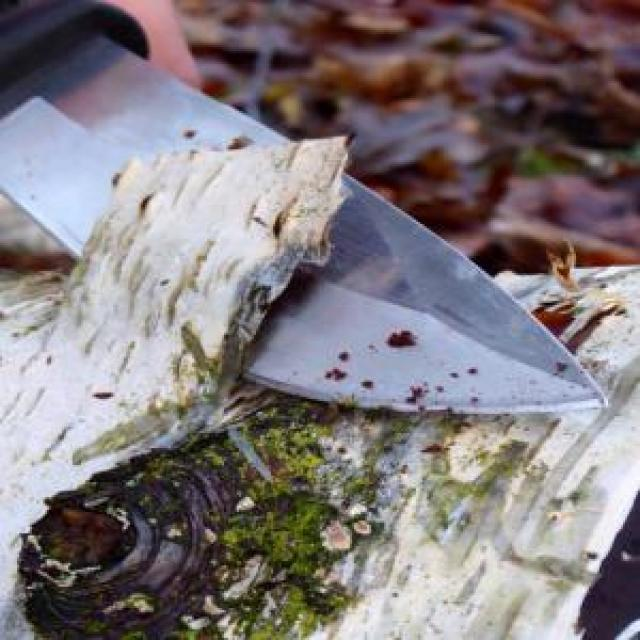knife: (0, 0, 612, 418)
